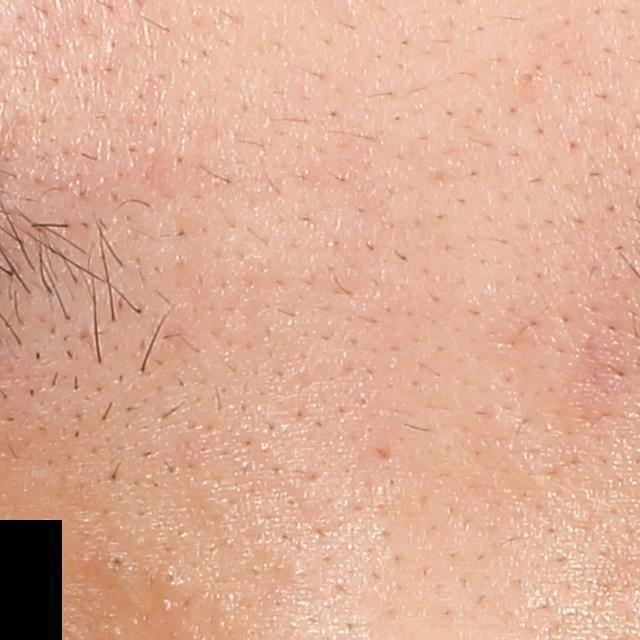comedo: (97, 542, 133, 580)
